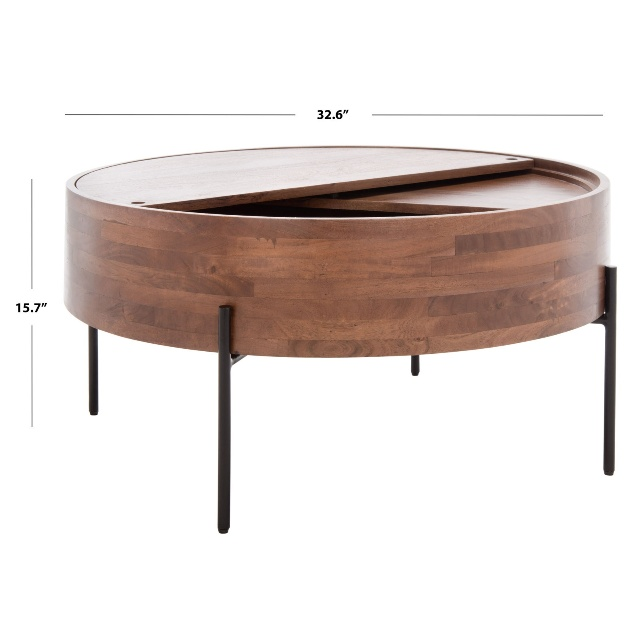obstacle: (64, 146, 615, 532)
